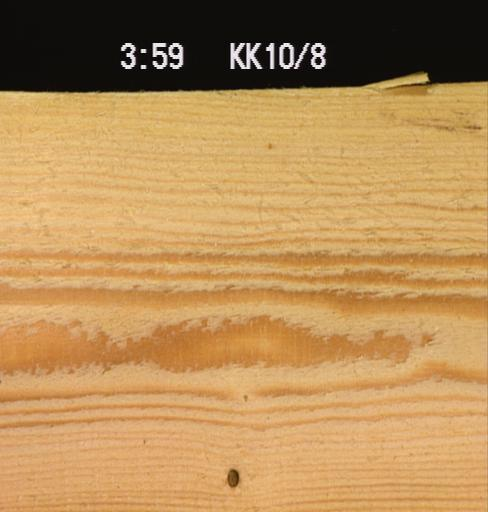dry_knot: (224, 466, 239, 489)
